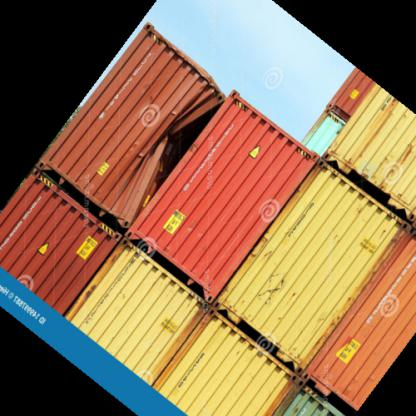Damage: (135, 92, 213, 212), (362, 104, 410, 188), (255, 258, 294, 313)
